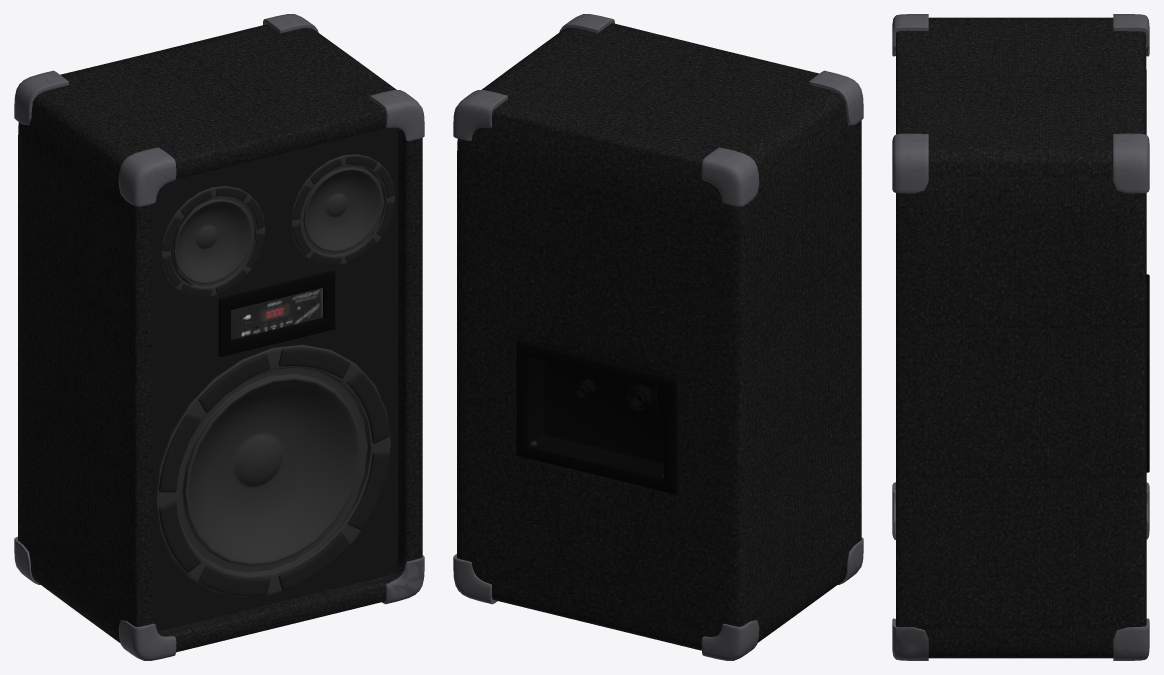
The model's file is sound_box.glb.
The picture shows the model from 3 angles, left to right: view 1: azimuth 30°, elevation 25°; view 2: azimuth 150°, elevation 25°; view 3: azimuth 270°, elevation 25°; orthographic projection. The views are drawn at different scales.
Visible parts, largest first — view 1: Object_3, Object_2; view 2: Object_3; view 3: Object_3.
Boxes of the visible parts, bbox=[...] form: Object_3: bbox=[14, 14, 424, 660]; Object_2: bbox=[152, 249, 398, 504]; Object_3: bbox=[453, 14, 863, 660]; Object_3: bbox=[892, 14, 1149, 660].
Bounding box in the file's own units: 3.48 × 5.68 × 2.58.
Materials: 1 (1 with a texture image).
